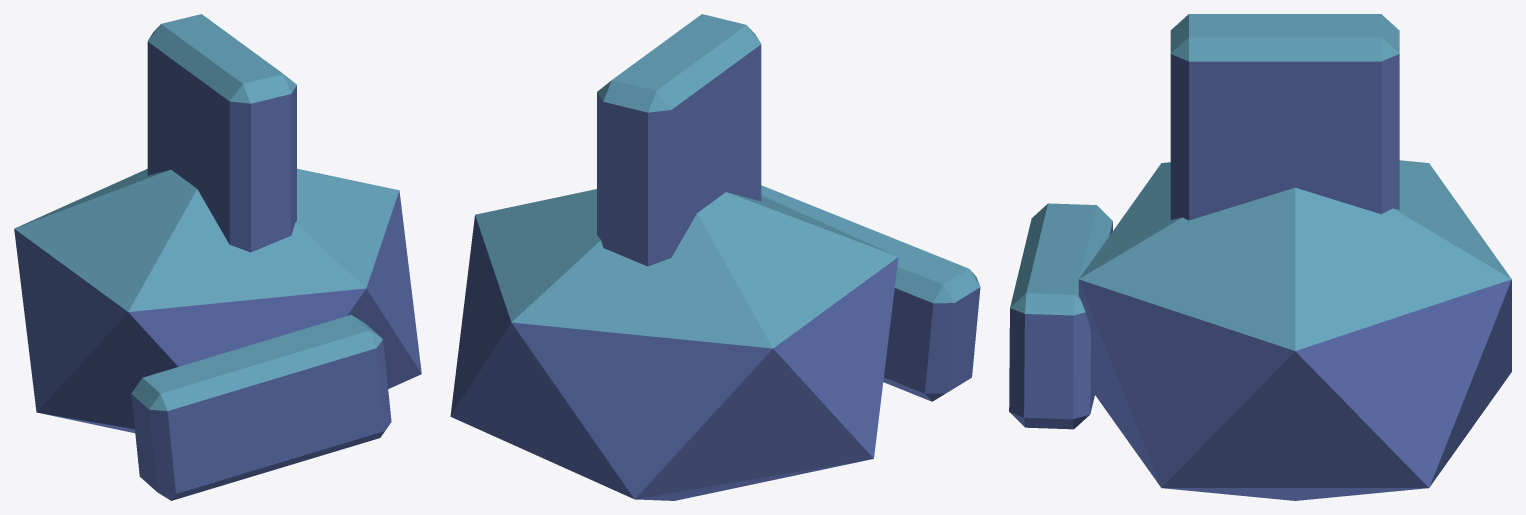
Rendered from npc_module_hair_6_v01.glb.
3 views of the same model, side by side, from view 1: azimuth 30°, elevation 25°; view 2: azimuth 150°, elevation 25°; view 3: azimuth 270°, elevation 25° (orthographic). The views are drawn at different scales.
Visible parts, largest first — view 1: GEO_npc_module_hair_6_v01; view 2: GEO_npc_module_hair_6_v01; view 3: GEO_npc_module_hair_6_v01.
Boxes of the visible parts, box(x1,y1,x2,y2) form: GEO_npc_module_hair_6_v01: box(14, 14, 421, 500); GEO_npc_module_hair_6_v01: box(450, 14, 980, 500); GEO_npc_module_hair_6_v01: box(1009, 14, 1511, 500).
Bounding box in the file's own units: 0.966 × 1.03 × 0.9872.
